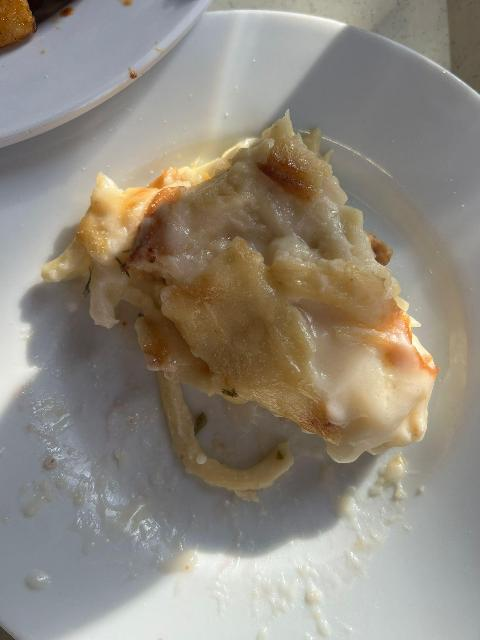Organik: (72, 119, 433, 458)
